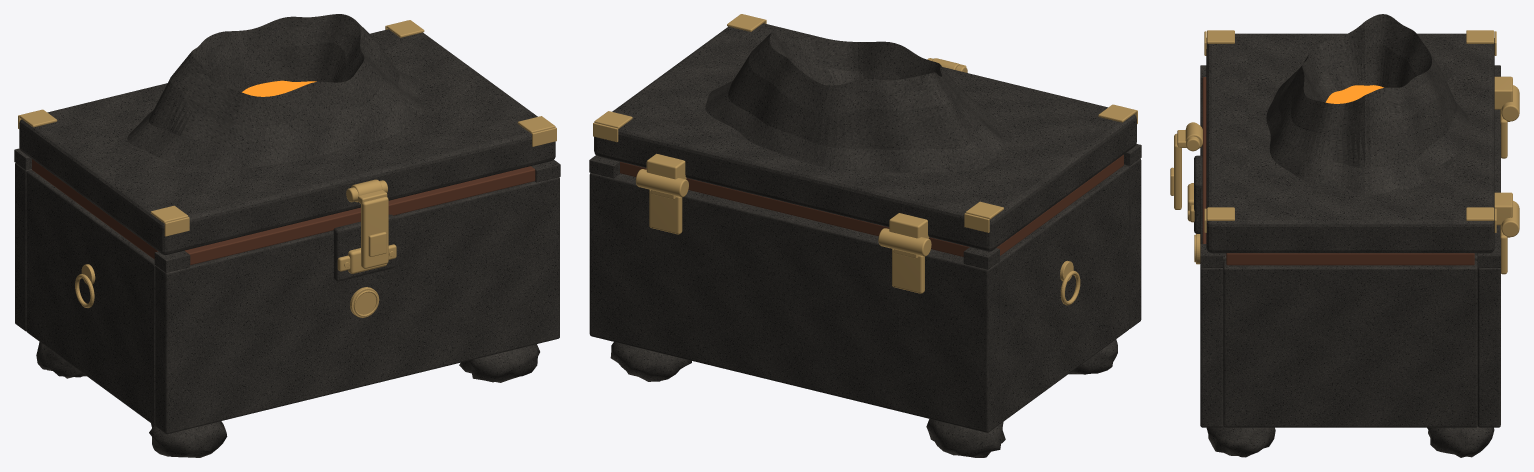
The model's file is vanuatu.glb.
3 views of the same model, side by side, from view 1: azimuth 30°, elevation 25°; view 2: azimuth 150°, elevation 25°; view 3: azimuth 270°, elevation 25° (orthographic). The views are drawn at different scales.
Visible parts, largest first — view 1: Ash / front, Lid / polished slab, Terrain / Yasur recessed crater, Ash / side, Oxide seam / long, Volcanic foot, Ash / rear, Volcanic foot.002, Latch / lifting hasp, Ash / clasp seat, Oxide seam / side, Volcanic foot.001 (+3 smaller); view 2: Ash / rear, Lid / polished slab, Terrain / Yasur recessed crater, Ash / side, Oxide seam / long.001, Ash / front, Volcanic foot.001, Volcanic foot.003, Oxide seam / side, Hinge / fixed mount.001, Hinge / fixed mount, Hinge / fixed barrel (+5 smaller); view 3: Ash / side.001, Lid / polished slab, Terrain / Yasur recessed crater, Ash / rear, Ash / front, Oxide seam / side.001, Volcanic foot.002, Volcanic foot.003, Oxide seam / long, Terrain / Ember basin, Ash / clasp seat, Hinge / moving leaf (+10 smaller).
Boxes of the visible parts, <box> form: Ash / front: <box>155,177,559,434</box>; Lid / polished slab: <box>19,29,555,254</box>; Terrain / Yasur recessed crater: <box>127,14,424,169</box>; Ash / side: <box>26,170,155,425</box>; Oxide seam / long: <box>185,166,535,264</box>; Volcanic foot: <box>149,421,227,457</box>; Ash / rear: <box>15,163,31,331</box>; Volcanic foot.002: <box>459,344,539,382</box>; Latch / lifting hasp: <box>361,197,388,268</box>; Ash / clasp seat: <box>333,214,395,281</box>; Oxide seam / side: <box>32,159,157,259</box>; Volcanic foot.001: <box>36,342,86,378</box>; Ash / rear: <box>589,173,999,432</box>; Lid / polished slab: <box>594,23,1136,251</box>; Terrain / Yasur recessed crater: <box>705,31,1003,172</box>; Ash / side: <box>998,165,1129,424</box>; Oxide seam / long.001: <box>620,162,969,256</box>; Ash / front: <box>1124,158,1141,328</box>; Volcanic foot.001: <box>926,419,1005,457</box>; Volcanic foot.003: <box>610,342,691,381</box>; Oxide seam / side: <box>996,154,1123,255</box>; Hinge / fixed mount.001: <box>649,190,682,234</box>; Hinge / fixed mount: <box>892,249,924,293</box>; Hinge / fixed barrel: <box>878,228,931,256</box>; Ash / side.001: <box>1223,260,1477,427</box>; Lid / polished slab: <box>1206,33,1494,253</box>; Terrain / Yasur recessed crater: <box>1266,14,1469,194</box>; Ash / rear: <box>1477,109,1500,427</box>; Ash / front: <box>1200,89,1223,427</box>; Oxide seam / side.001: <box>1226,253,1474,265</box>; Volcanic foot.002: <box>1206,426,1275,457</box>; Volcanic foot.003: <box>1427,426,1494,457</box>; Oxide seam / long: <box>1202,77,1206,243</box>; Terrain / Ember basin: <box>1325,85,1383,103</box>; Ash / clasp seat: <box>1194,155,1202,233</box>; Hinge / moving leaf: <box>1494,76,1512,109</box>.
Size of the model in its own units: 3.79 by 2.98 by 2.88.
4 materials, 1 textured.
